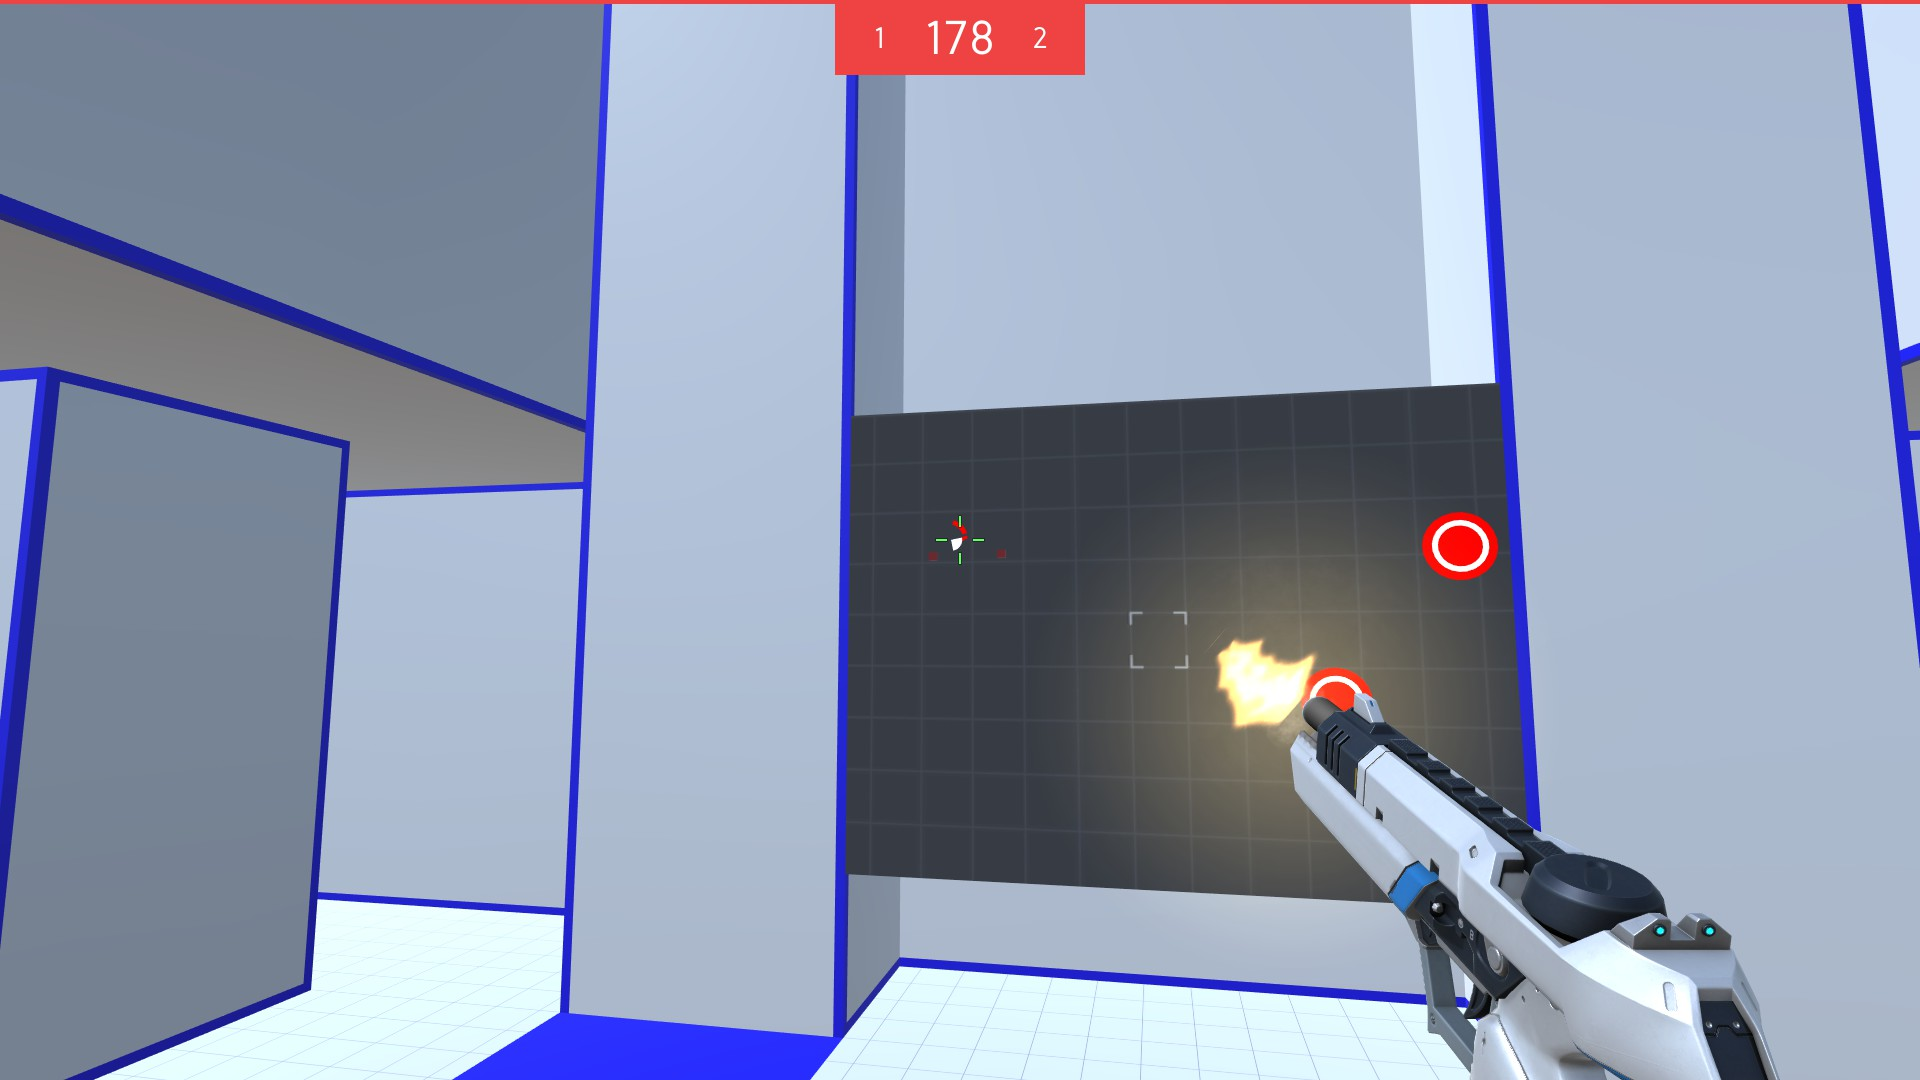target: (1418, 512, 1499, 582), (1303, 666, 1369, 716)
